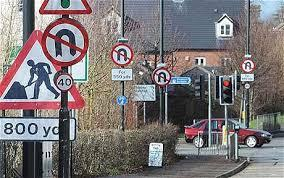no_u_turn: (42, 17, 88, 66), (110, 43, 132, 65)
